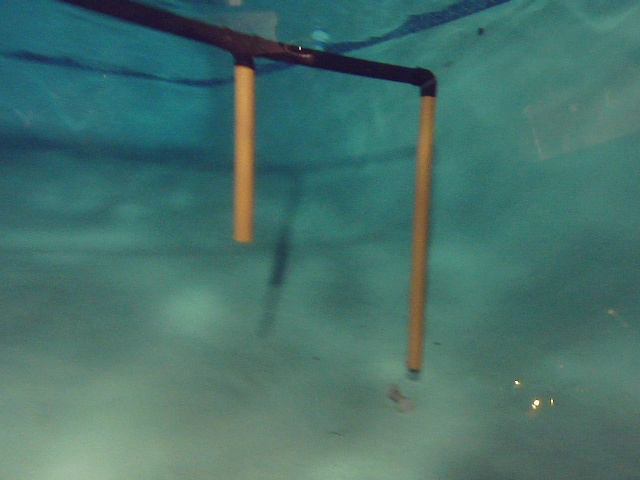Gate: (402, 94, 438, 372), (232, 63, 258, 242)
